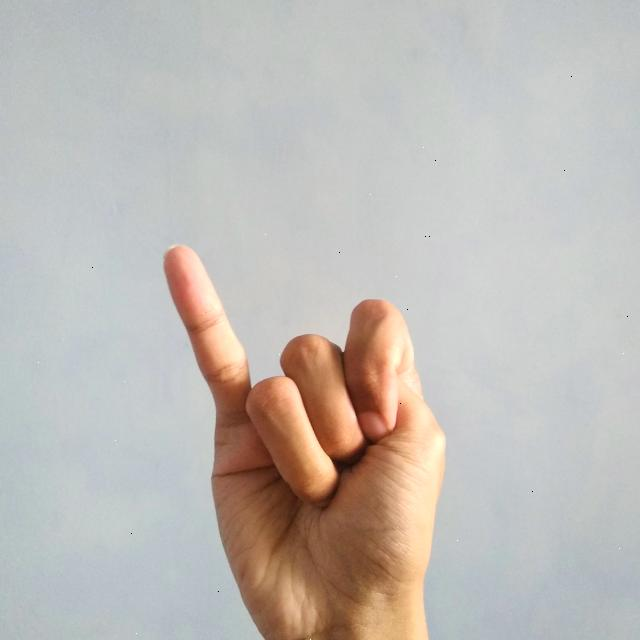I: (156, 237, 458, 640)
